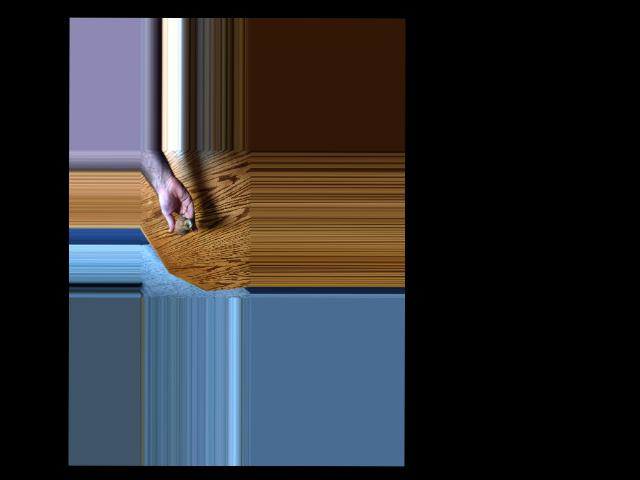sweet_potato: (173, 217, 191, 236)
